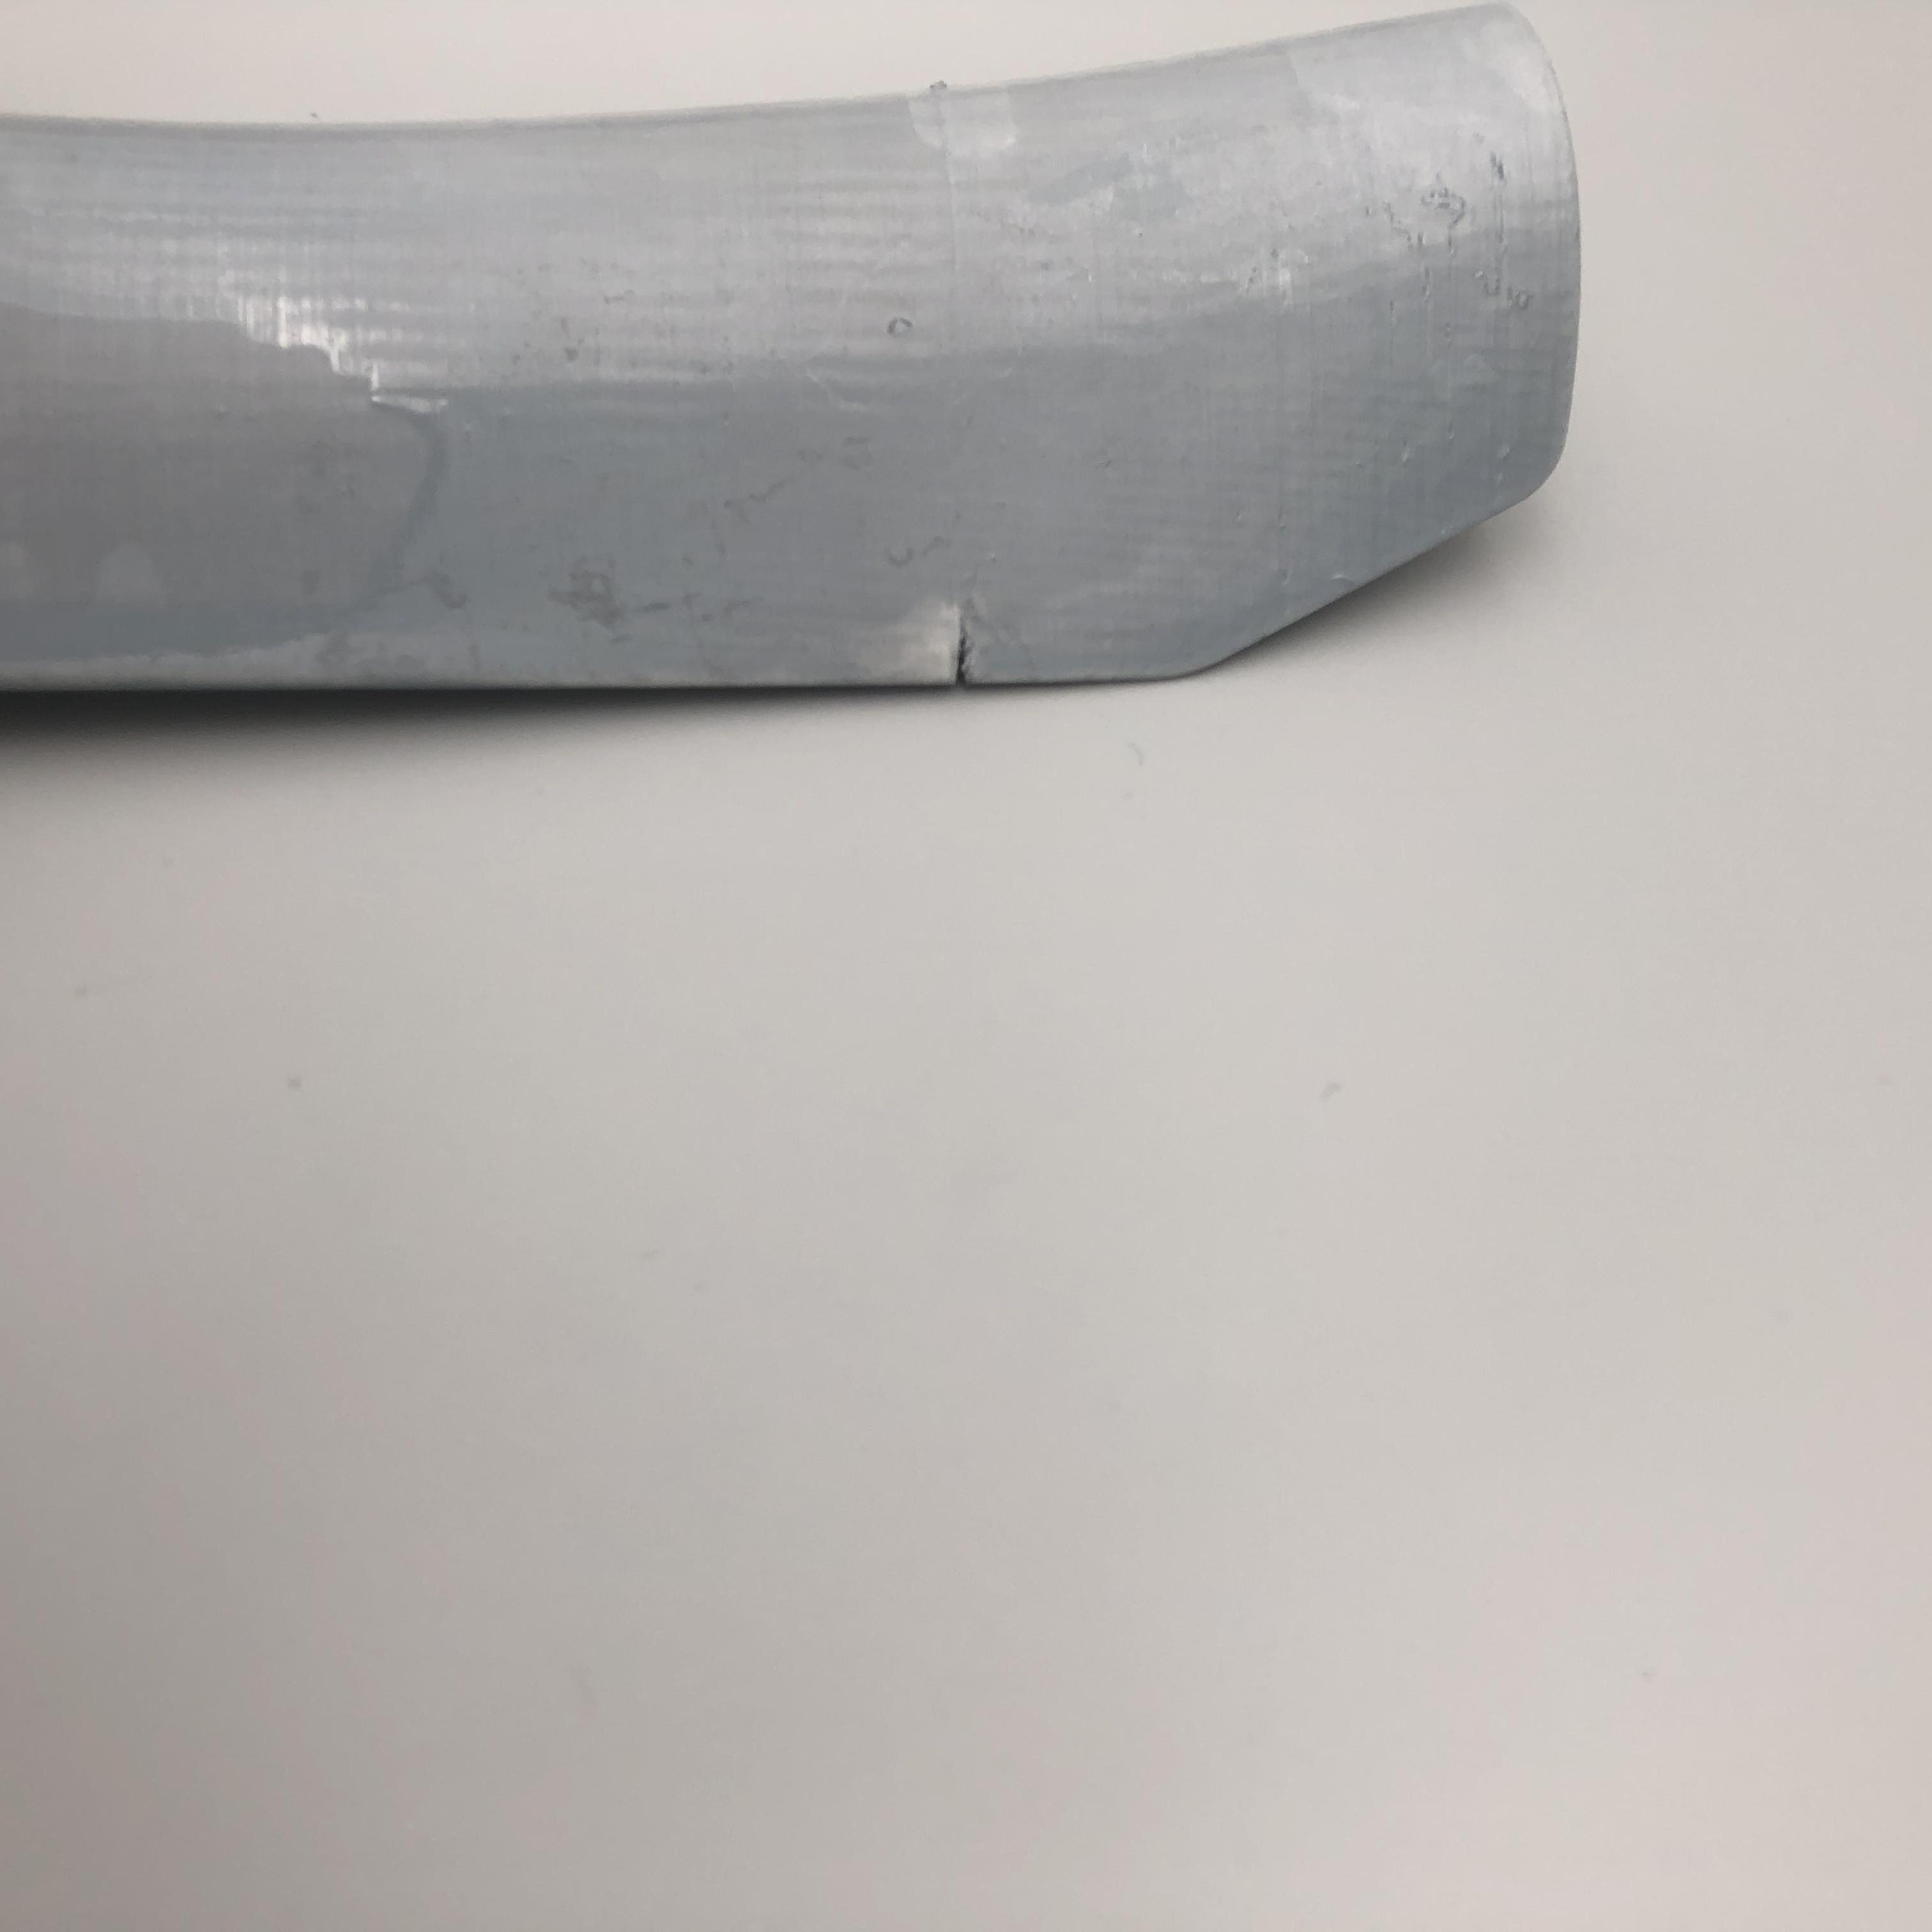groove: (941, 626, 1000, 683)
